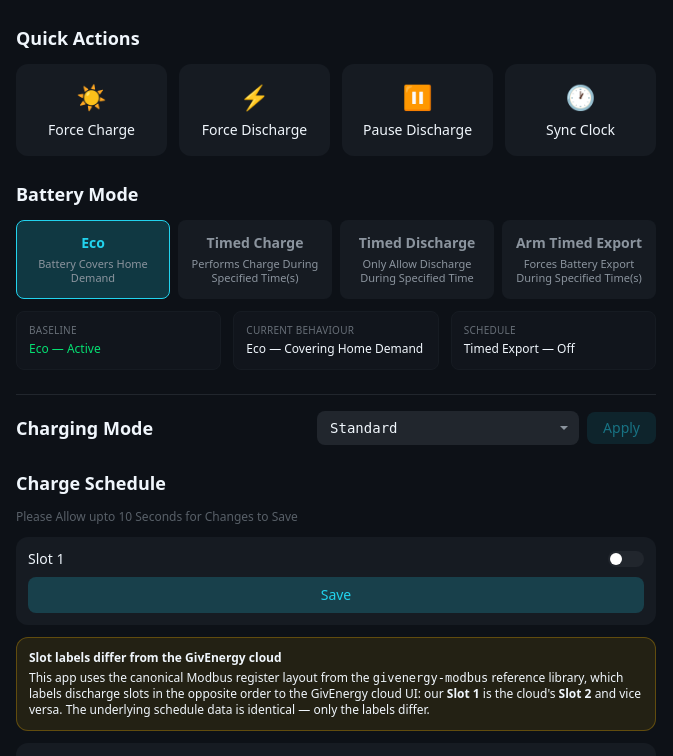
<ControlPage/> — independent battery mechanisms › shows Applying while Timed Export awaits snapshot confirmation
Click the button "Timed Export": (579, 259) [502, 220, 656, 299]
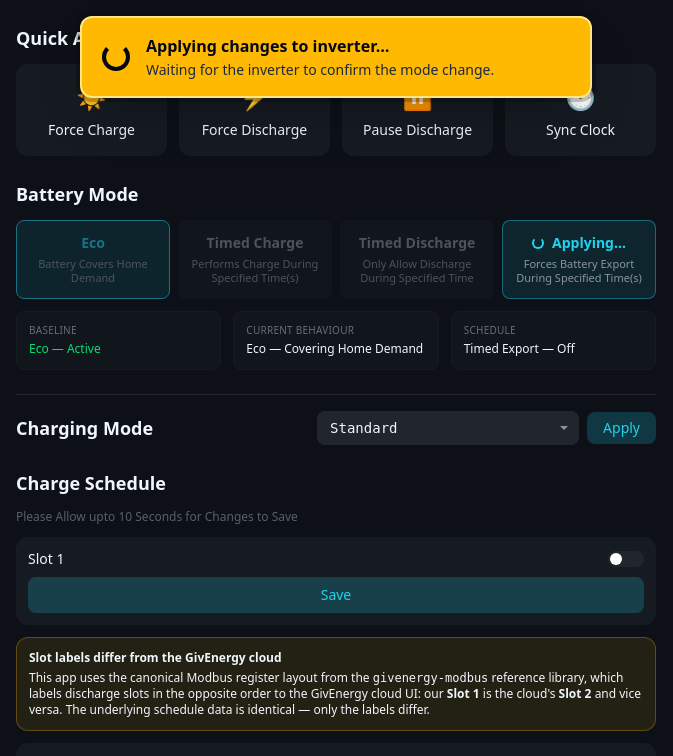
expect the text "Applying…" is shown: met, box [552, 232, 626, 252]
expect the text "Applying changes to inverter…" is shown: met, box [146, 35, 390, 57]
